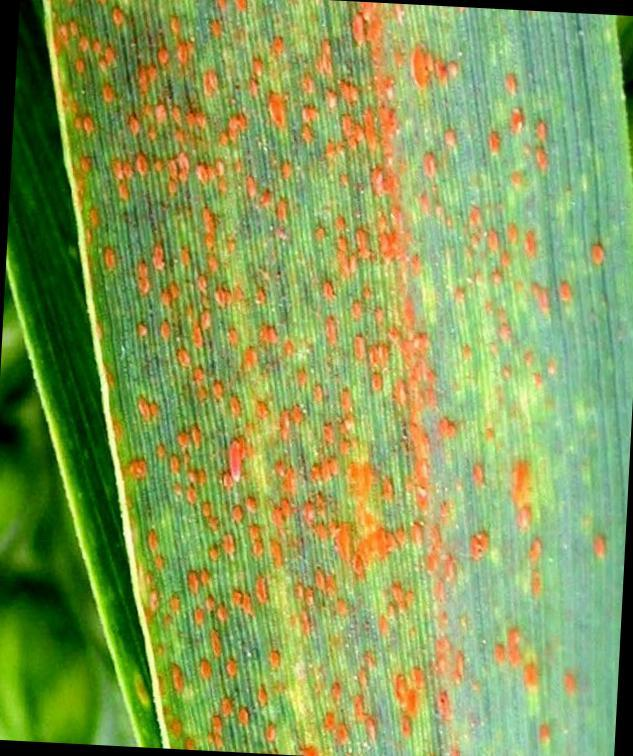Wheat: (140, 256, 581, 594), (94, 23, 592, 245), (184, 615, 590, 750)
